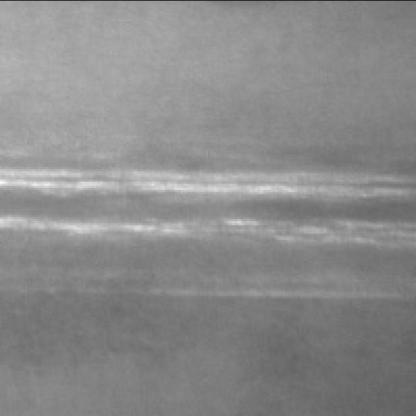scratches: (6, 158, 416, 200), (6, 212, 416, 253), (169, 268, 391, 300)
